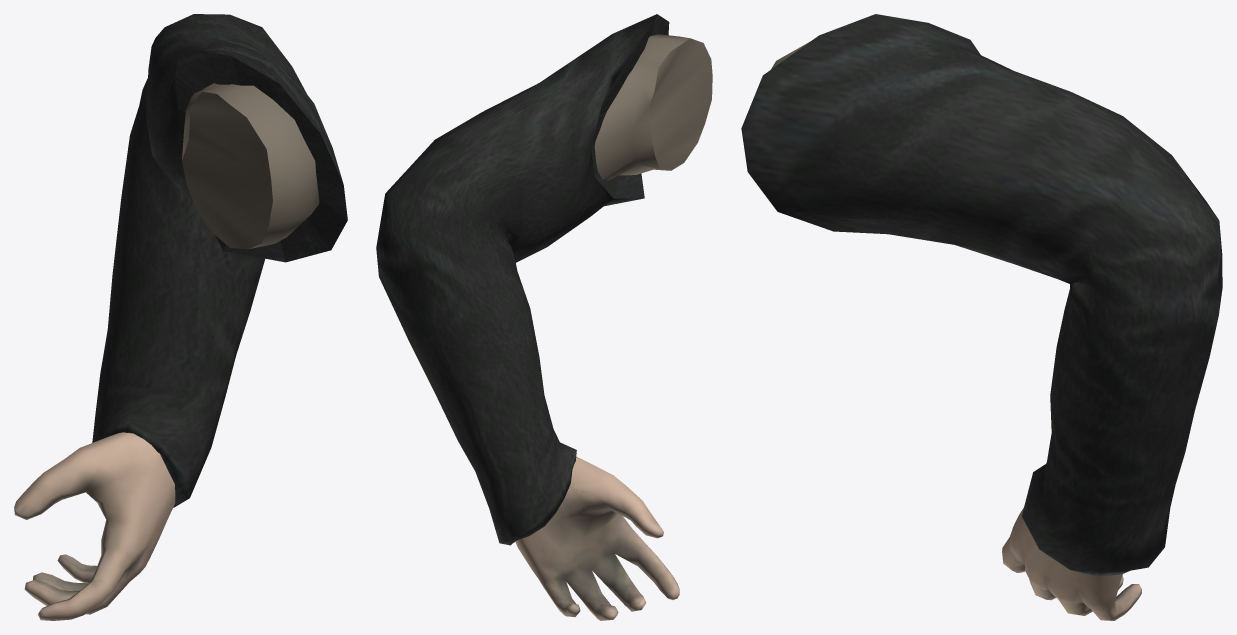
The model's file is dest_nt_nuked_male_03_arm_left_LOD0.obj.
3 views of the same model, side by side, from view 1: azimuth 30°, elevation 25°; view 2: azimuth 150°, elevation 25°; view 3: azimuth 270°, elevation 25° (orthographic). The views are drawn at different scales.
Visible parts, largest first — view 1: mtl_nt_2020_manne_male01_jacket1, mtl_nt_2020_manne_male01_head1; view 2: mtl_nt_2020_manne_male01_jacket1, mtl_nt_2020_manne_male01_head1; view 3: mtl_nt_2020_manne_male01_jacket1, mtl_nt_2020_manne_male01_head1.
Part boxes in pixels (left/top/right/bottom): mtl_nt_2020_manne_male01_jacket1: left=92, top=14, right=347, bottom=507; mtl_nt_2020_manne_male01_head1: left=14, top=83, right=319, bottom=620; mtl_nt_2020_manne_male01_jacket1: left=376, top=14, right=669, bottom=545; mtl_nt_2020_manne_male01_head1: left=515, top=34, right=712, bottom=620; mtl_nt_2020_manne_male01_jacket1: left=741, top=14, right=1222, bottom=576; mtl_nt_2020_manne_male01_head1: left=771, top=42, right=1141, bottom=620.
Bounding box in the file's own units: 26.57 × 52.45 × 36.97.
